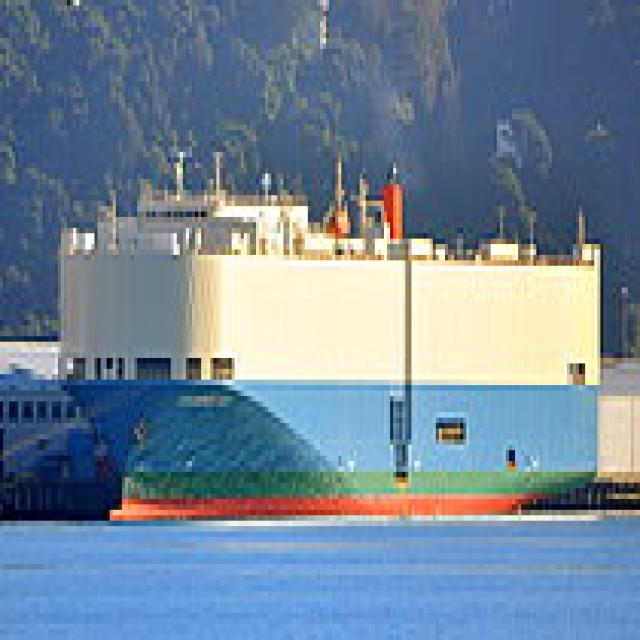Carrier: (52, 135, 600, 520)
